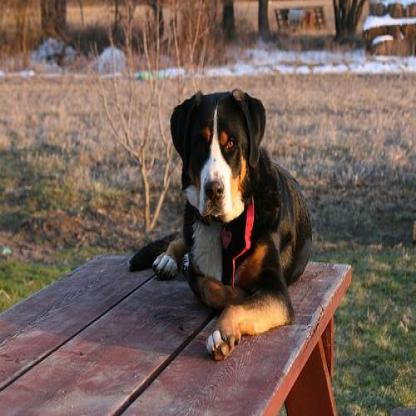Greater_Swiss_Mountain_dog: (112, 80, 320, 357)
